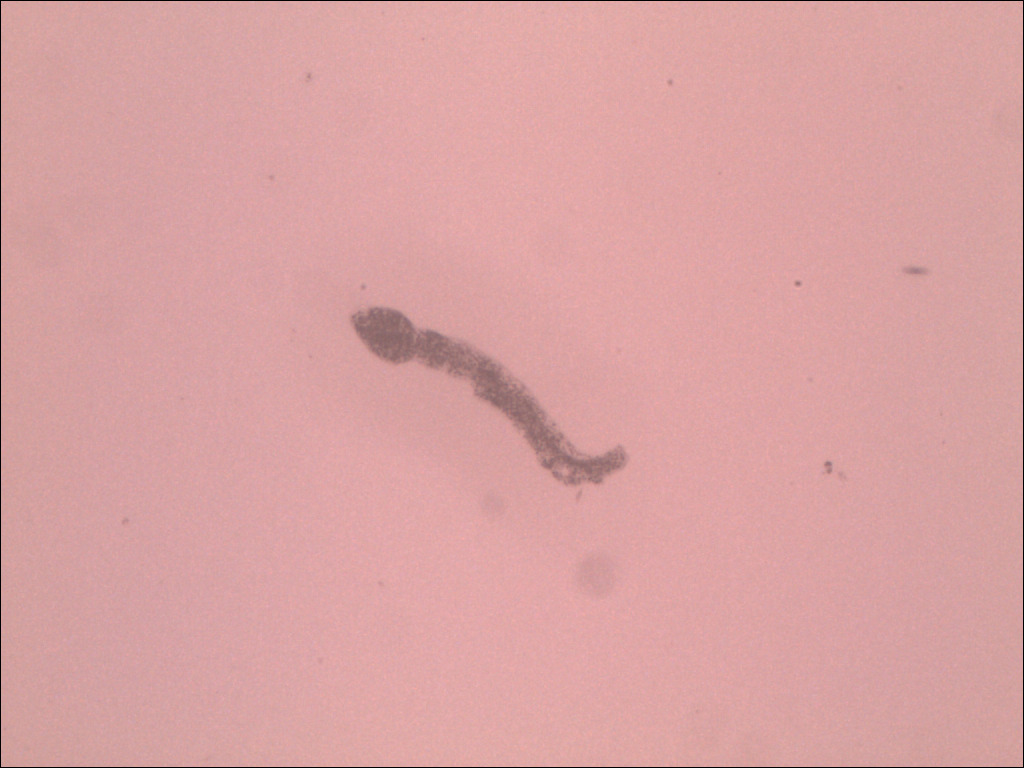amoeba: (341, 296, 638, 496)
